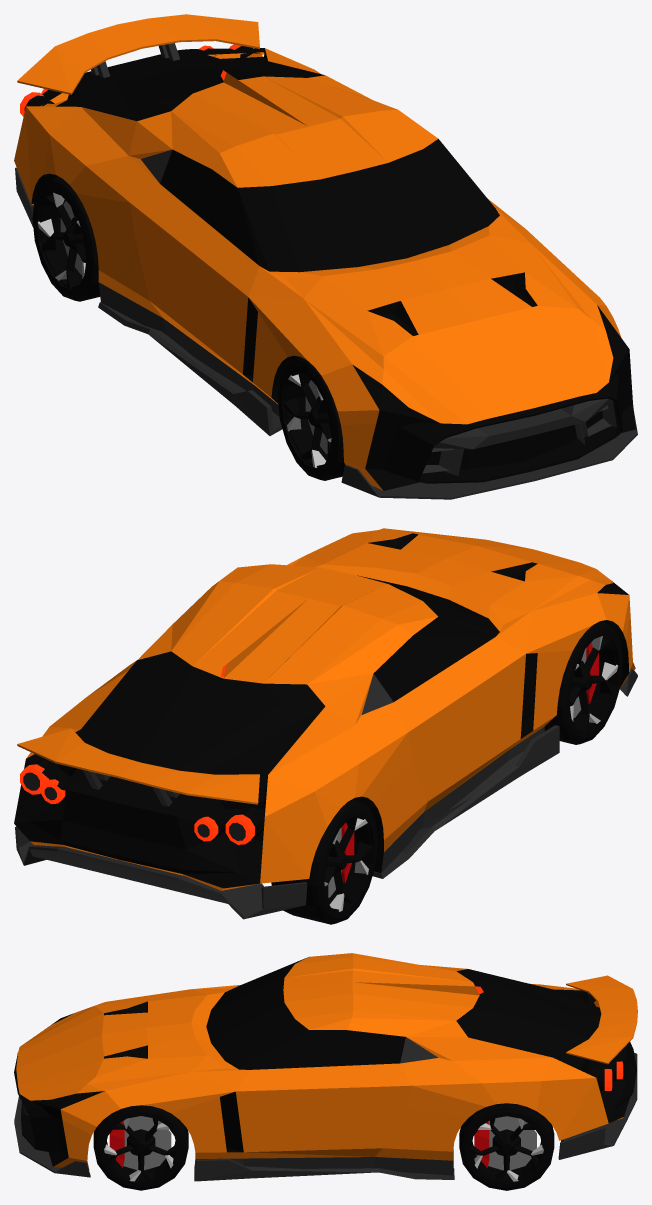
File: grt_50.fbx
3 renders of one model, top to bottom at view 1: azimuth 30°, elevation 25°; view 2: azimuth 150°, elevation 25°; view 3: azimuth 270°, elevation 25°, orthographic. The views are drawn at different scales.
Parts seen in each view (by area): view 1: body, wheel.bk.r, wheel.ft.r; view 2: body, wheel.bk.r, wheel.ft.r; view 3: body, wheel.bk.l, wheel.ft.l, wheelbrake.ft.l, wheelbrake.bk.l.
Boxes of the visible parts, x1,y1,x2,y2 form: body: (14, 14, 637, 499); wheel.bk.r: (32, 176, 100, 301); wheel.ft.r: (277, 357, 345, 480); body: (14, 528, 637, 919); wheel.bk.r: (271, 799, 378, 924); wheel.ft.r: (544, 621, 623, 744); body: (14, 953, 637, 1181); wheel.bk.l: (459, 1103, 554, 1190); wheel.ft.l: (93, 1105, 188, 1190); wheelbrake.ft.l: (109, 1121, 124, 1167); wheelbrake.bk.l: (474, 1122, 489, 1167).
Bounding box in the file's own units: 129 × 90.22 × 320.
